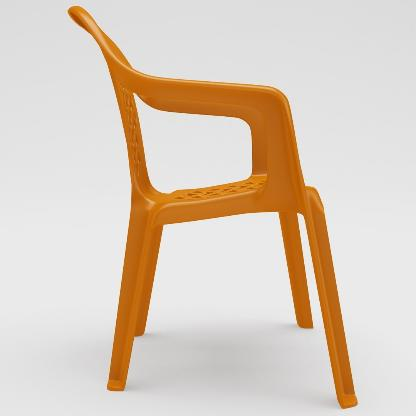chair: (60, 1, 364, 416)
